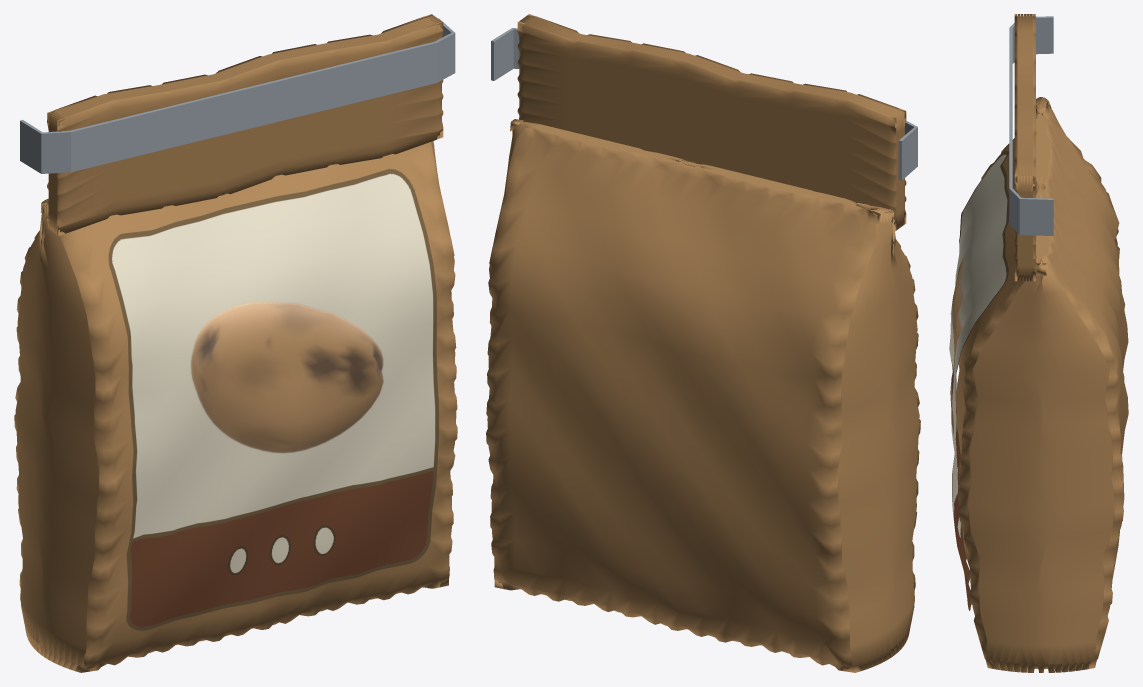
File: potato_seed.glb
3 renders of one model, left to right at view 1: azimuth 30°, elevation 25°; view 2: azimuth 150°, elevation 25°; view 3: azimuth 270°, elevation 25°, orthographic. The views are drawn at different scales.
Visible parts, largest first — view 1: PotatoSeed_Label, PotatoSeed_Body, PotatoSeed_Fold, PotatoSeed_Tie; view 2: PotatoSeed_Body, PotatoSeed_Fold, PotatoSeed_Tie; view 3: PotatoSeed_Body, PotatoSeed_Label, PotatoSeed_Fold, PotatoSeed_Tie.
Part boxes in pixels (x1=…): PotatoSeed_Label: x1=108, y1=169, x2=438, y2=630; PotatoSeed_Body: x1=14, y1=141, x2=457, y2=672; PotatoSeed_Fold: x1=47, y1=14, x2=443, y2=235; PotatoSeed_Tie: x1=20, y1=18, x2=455, y2=173; PotatoSeed_Body: x1=486, y1=119, x2=920, y2=672; PotatoSeed_Fold: x1=517, y1=14, x2=906, y2=231; PotatoSeed_Tie: x1=491, y1=28, x2=917, y2=180; PotatoSeed_Body: x1=956, y1=97, x2=1128, y2=672; PotatoSeed_Label: x1=949, y1=150, x2=1009, y2=610; PotatoSeed_Fold: x1=1014, y1=14, x2=1035, y2=281; PotatoSeed_Tie: x1=1009, y1=16, x2=1053, y2=235.
Bounding box in the file's own units: 0.0917 × 0.1152 × 0.0378.
Materials: 4 (1 with a texture image).
